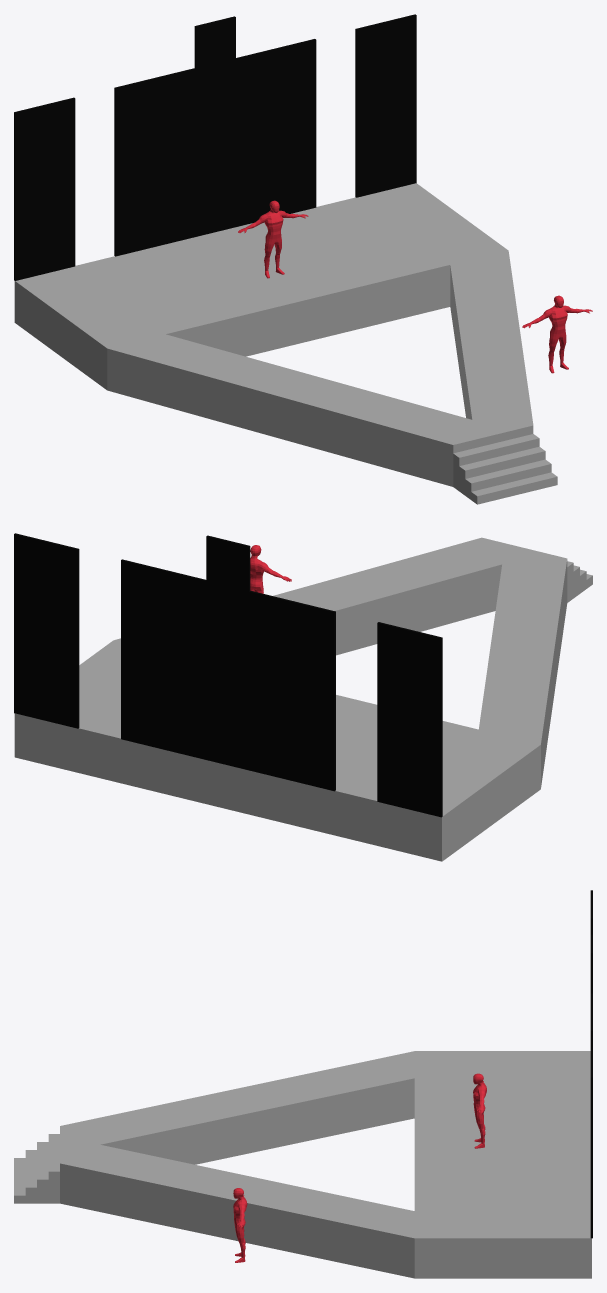
3 views of the same model, one above another, from view 1: azimuth 30°, elevation 25°; view 2: azimuth 150°, elevation 25°; view 3: azimuth 270°, elevation 25° (orthographic). The views are drawn at different scales.
Parts seen in each view (by area): view 1: Cube, Cube.006, Catwalk2, Catwalk1, Cube.003, Cube.005, Cube.002, Cube.004, Cube.001, 1.002, 1.001; view 2: Cube.006, Cube, Catwalk1, Catwalk2, Cube.003, Cube.005, Cube.004, Cube.001, 1.001, Cube.002; view 3: Cube, Catwalk1, Catwalk2, Cube.002, 1.001, 1.002, Cube.001, Cube.003.
Part boxes in pixels (bbox=[...]): Cube: bbox=[14, 183, 508, 389]; Cube.006: bbox=[114, 39, 316, 256]; Catwalk2: bbox=[107, 334, 474, 486]; Catwalk1: bbox=[448, 250, 533, 426]; Cube.003: bbox=[355, 14, 416, 197]; Cube.005: bbox=[14, 97, 75, 280]; Cube.002: bbox=[453, 434, 557, 504]; Cube.004: bbox=[194, 16, 235, 68]; Cube.001: bbox=[440, 416, 533, 453]; 1.002: bbox=[238, 200, 308, 278]; 1.001: bbox=[522, 295, 592, 373]; Cube.006: bbox=[121, 559, 335, 791]; Cube: bbox=[14, 640, 540, 861]; Catwalk1: bbox=[114, 537, 516, 655]; Catwalk2: bbox=[477, 557, 567, 786]; Cube.003: bbox=[14, 533, 79, 728]; Cube.005: bbox=[377, 622, 442, 817]; Cube.004: bbox=[206, 535, 250, 591]; Cube.001: bbox=[471, 538, 565, 567]; 1.001: bbox=[250, 545, 291, 593]; Cube.002: bbox=[567, 561, 592, 602]; Cube: bbox=[414, 1051, 591, 1278]; Catwalk1: bbox=[60, 1142, 439, 1278]; Catwalk2: bbox=[60, 1051, 439, 1164]; Cube.002: bbox=[14, 1134, 59, 1203]; 1.001: bbox=[233, 1188, 247, 1262]; 1.002: bbox=[473, 1073, 486, 1148]; Cube.001: bbox=[60, 1126, 84, 1163]; Cube.003: bbox=[590, 1049, 592, 1238].
Size of what is drawn, in the model's own units: 10 by 6 by 13.07.
